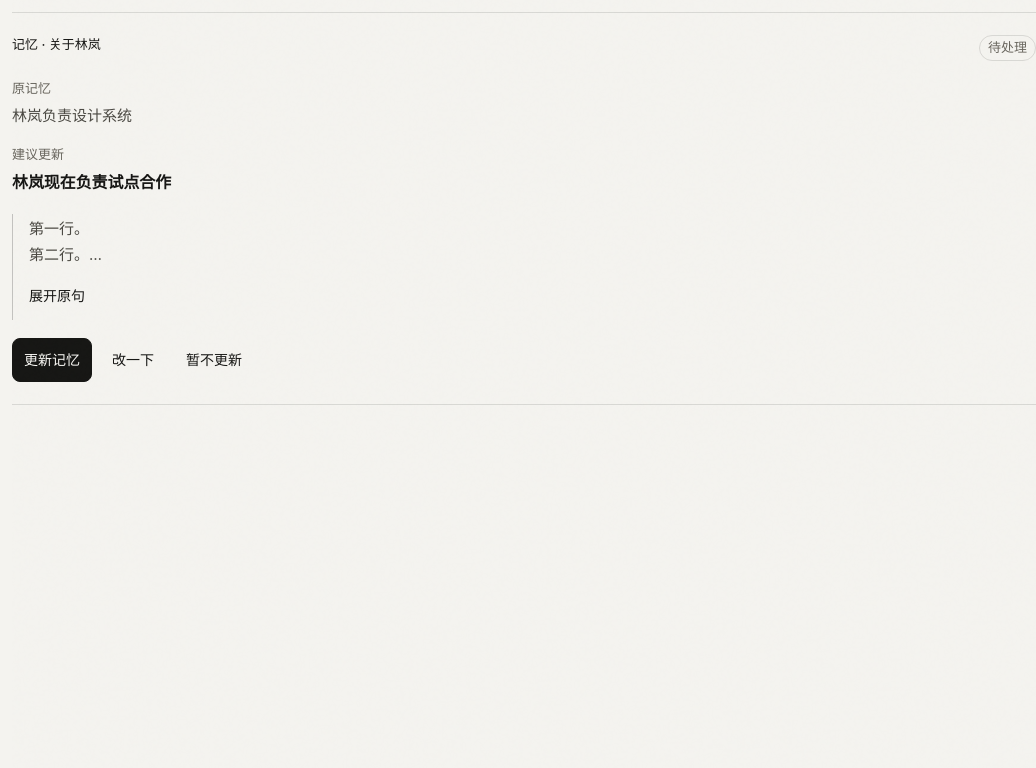
Test: Session Memory item card › lets assistive technology expand and inspect the complete long source
Click the button "展开原句" at (57, 296), box [29,274,85,318]
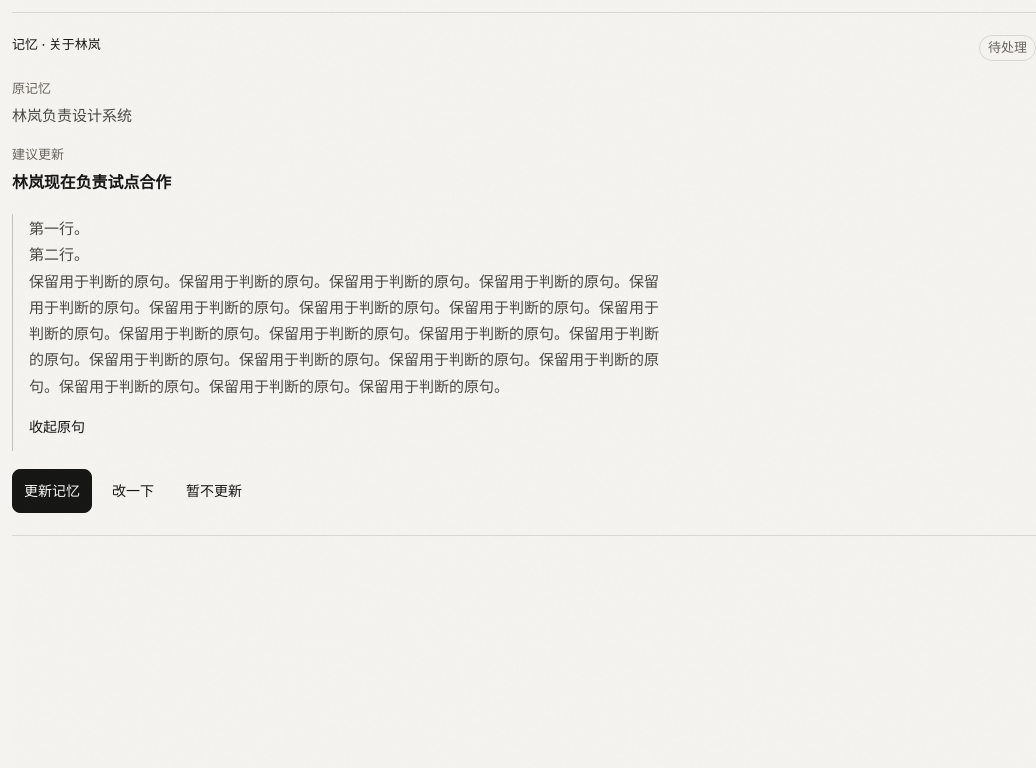
Now the button "收起原句" is expanded, box [29,405,85,449]
Now the button "收起原句" is shown, box [29,405,85,449]
